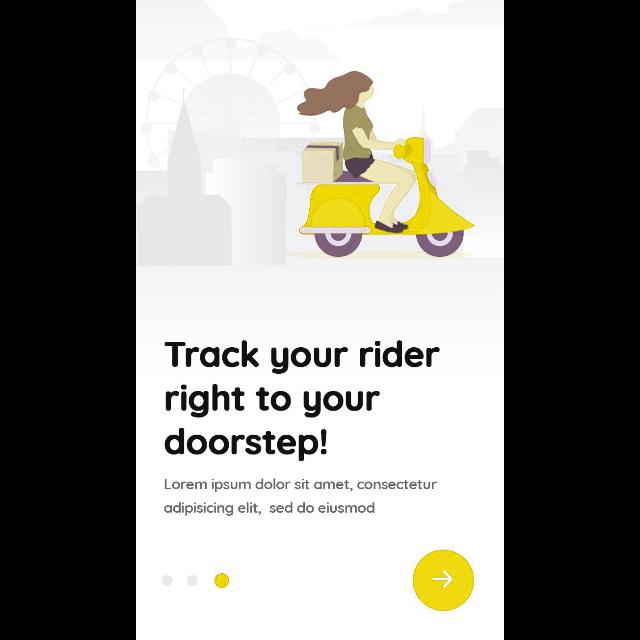icon: (413, 550, 475, 612)
image: (136, 1, 504, 267)
pageindicator: (162, 572, 230, 588)
text: (164, 340, 440, 462), (165, 478, 438, 516)
